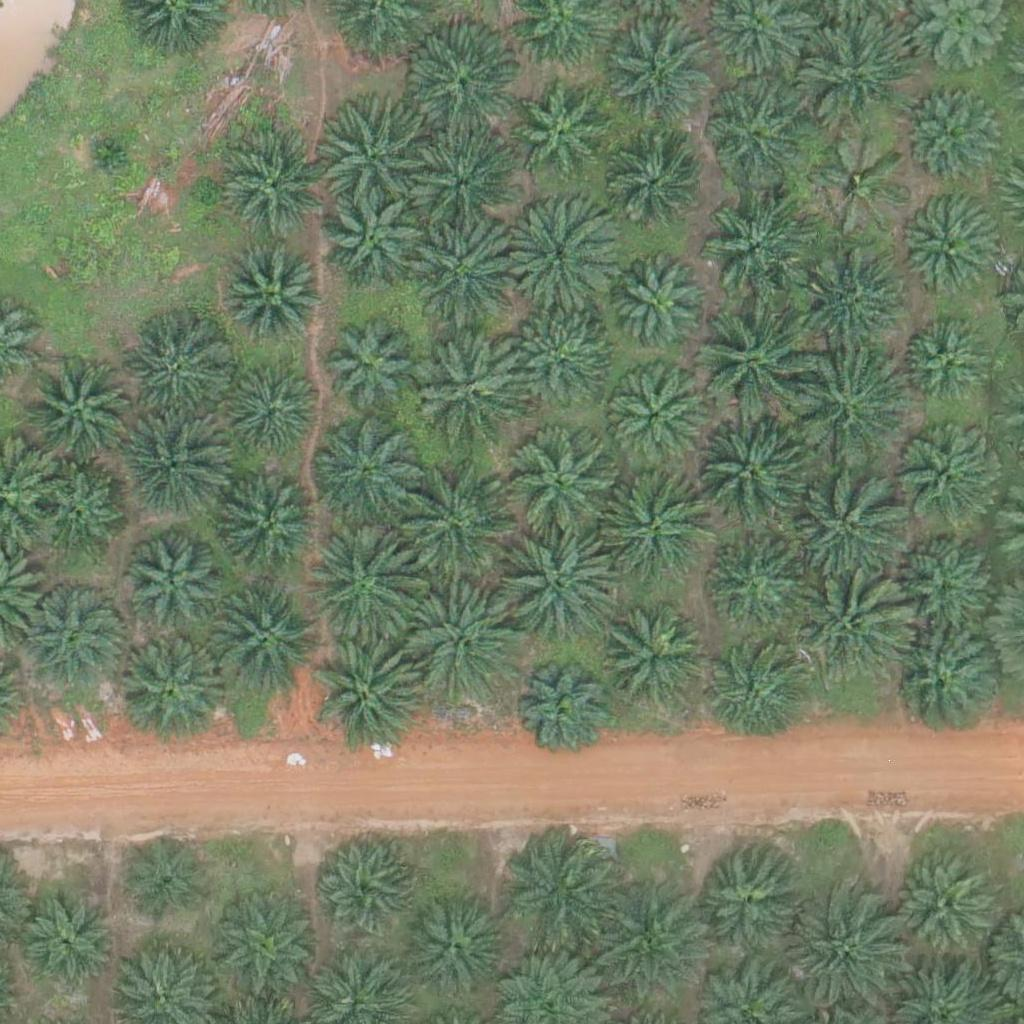Kelapa_Sawit: (695, 413, 808, 527), (502, 197, 615, 311), (411, 213, 524, 327), (405, 590, 518, 704), (302, 530, 415, 644), (118, 631, 231, 745), (205, 583, 318, 697), (585, 891, 698, 1004), (499, 840, 612, 953), (789, 467, 902, 580), (792, 238, 905, 351), (796, 18, 909, 131), (694, 307, 807, 420), (597, 471, 710, 584), (507, 432, 620, 545), (416, 331, 529, 444), (117, 410, 230, 523), (690, 845, 802, 959), (205, 889, 317, 1003), (792, 352, 904, 466), (309, 414, 421, 528), (788, 896, 900, 1009), (887, 624, 999, 737), (792, 572, 904, 685), (700, 186, 812, 299), (599, 608, 711, 721), (509, 529, 621, 642), (409, 35, 521, 148), (398, 464, 510, 577), (314, 641, 426, 754), (320, 91, 432, 204), (22, 354, 134, 467), (890, 856, 990, 957), (408, 892, 508, 993), (903, 83, 1003, 184), (900, 199, 1000, 300), (899, 425, 999, 526), (703, 84, 803, 185), (707, 537, 807, 638), (704, 646, 804, 747), (609, 29, 709, 130), (604, 369, 704, 470), (510, 84, 610, 185), (321, 319, 421, 420), (322, 189, 422, 290), (123, 540, 223, 641), (24, 584, 124, 685), (313, 839, 413, 939), (18, 885, 118, 985), (900, 527, 1000, 627), (812, 134, 912, 234), (601, 143, 701, 243), (512, 316, 612, 416), (412, 132, 512, 232), (223, 140, 323, 240), (224, 249, 324, 349), (224, 365, 324, 465), (220, 481, 320, 581), (126, 325, 226, 425), (614, 263, 702, 352), (122, 835, 210, 923), (902, 324, 990, 412), (34, 468, 122, 556), (517, 670, 604, 758), (81, 127, 131, 178)
